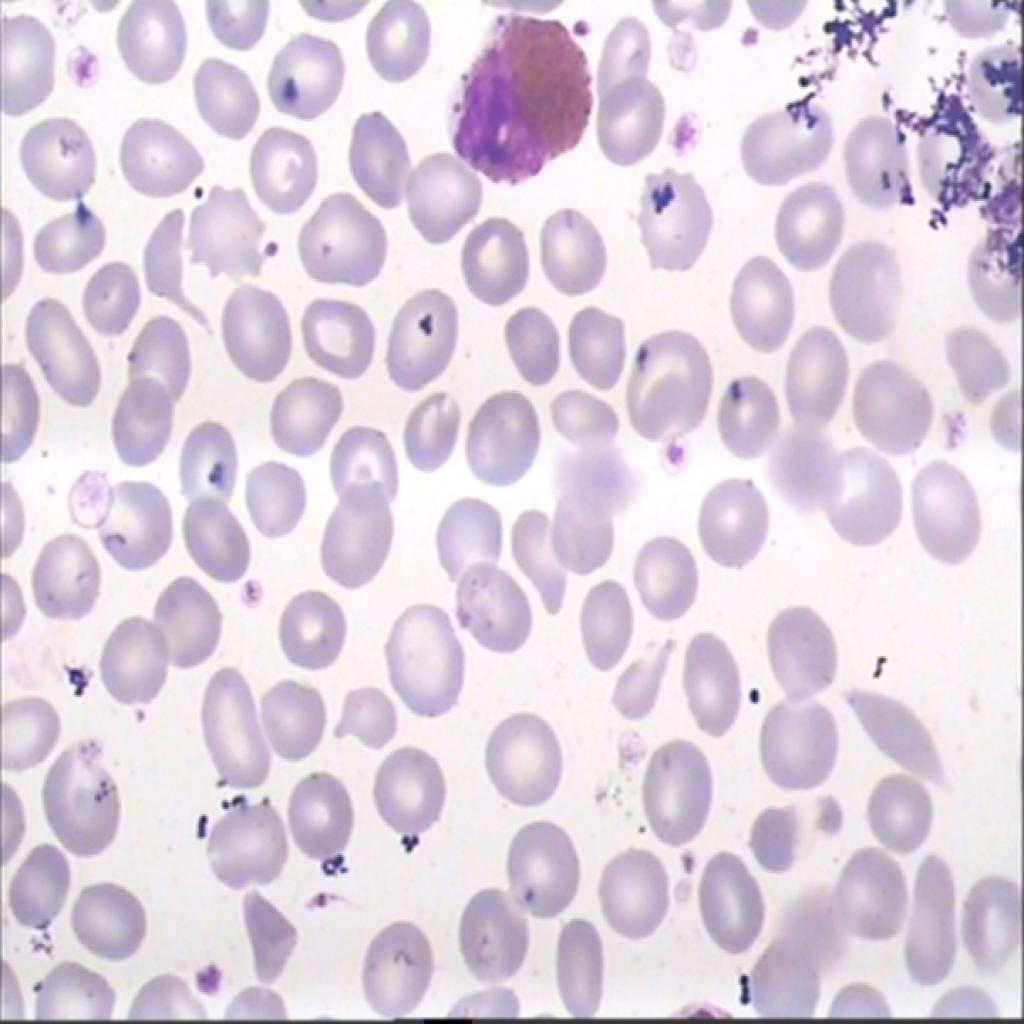Eosinofil: (436, 0, 598, 196)
Platelet: (656, 107, 702, 165), (252, 214, 296, 270), (653, 425, 691, 487), (411, 295, 449, 345), (190, 955, 230, 1001), (734, 668, 766, 724), (66, 190, 106, 230), (232, 556, 259, 610), (570, 9, 609, 46), (716, 358, 746, 406), (627, 329, 654, 382), (199, 455, 229, 498), (729, 22, 761, 62), (179, 180, 218, 210), (276, 71, 310, 105), (68, 53, 100, 87), (394, 828, 421, 864), (320, 238, 350, 263), (678, 846, 697, 880)
